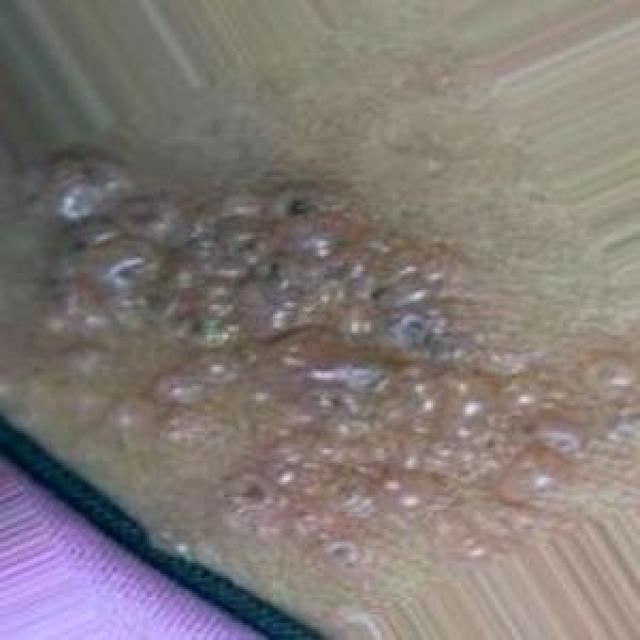Shingles: (0, 147, 631, 562)
